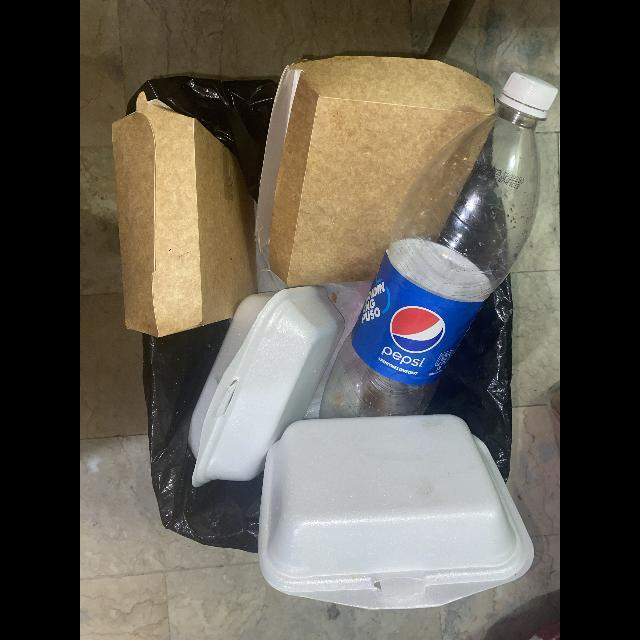paper: (255, 55, 499, 294), (110, 97, 256, 340)
plastic: (319, 72, 558, 420)
styrofoam: (258, 414, 535, 613), (188, 286, 345, 488)
